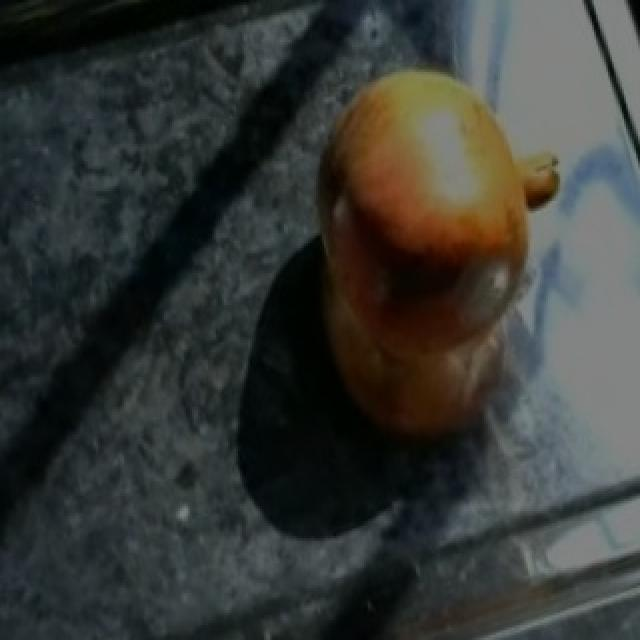fruit: (290, 30, 572, 308), (300, 191, 510, 464)
